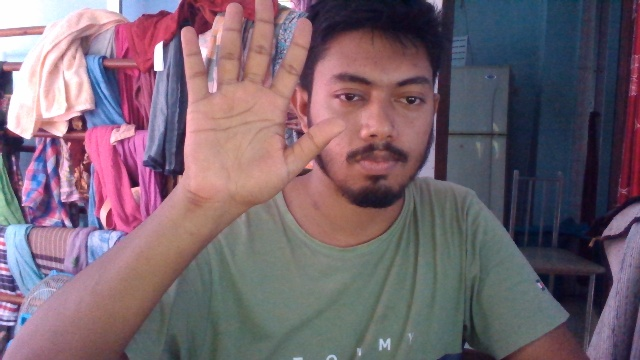hello: (177, 1, 347, 199)
